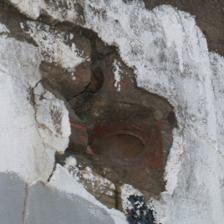Crack: (38, 48, 112, 182), (6, 3, 124, 67), (132, 69, 186, 206)
